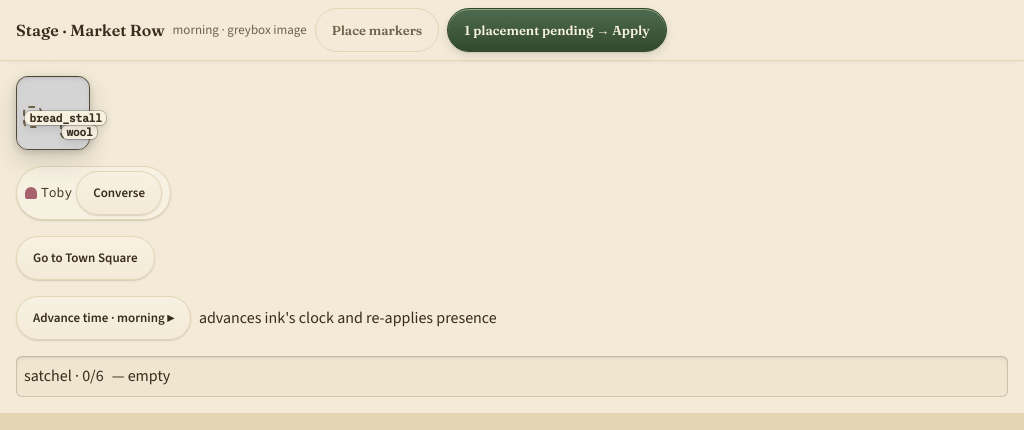
Test: StagePane › the Place-markers toggle stays a pure mode flip regardless of pending count
This screenshot has width=1024, height=430.
Click the button "Place markers".
click(377, 30)  # box [315,8,439,52]
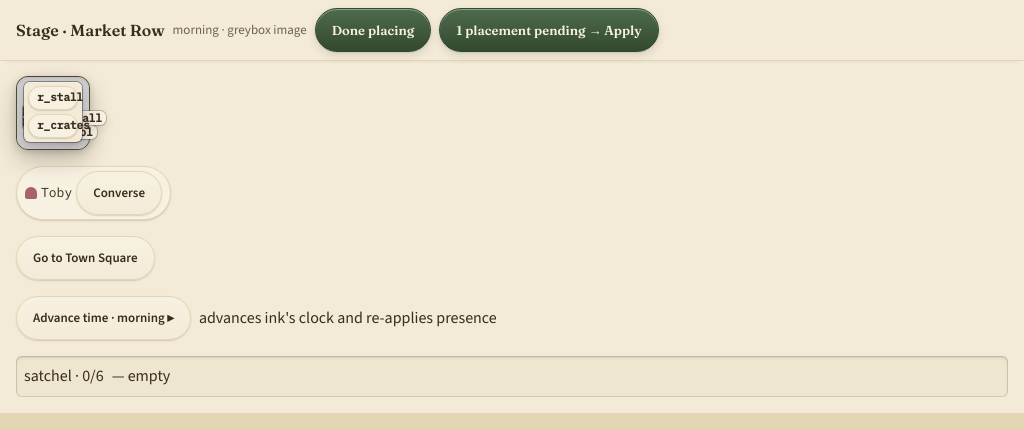
expect the button "1 placement pending → Apply" is shown: met, box [439,8,659,52]
expect the button "Done placing" is shown: met, box [315,8,431,52]
